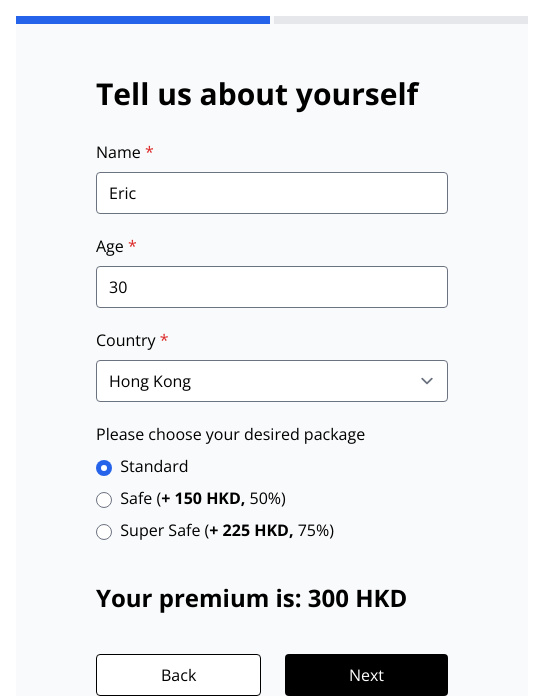
Wizard navigation buttons test › step 1 next button
The image size is (545, 696).
Click the button "Next" at point(366, 675), box [285,654,448,695]
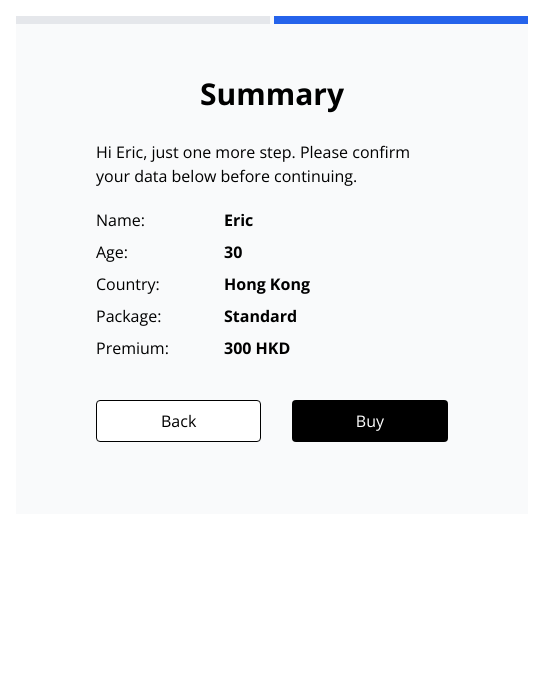
Expected: the text "Summary" is shown, [200,73,344,114]
